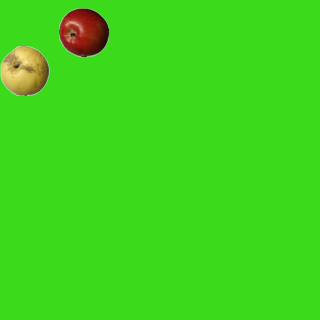Apple Braeburn: (58, 7, 108, 57)
Apple Golden 1: (0, 45, 49, 95)
